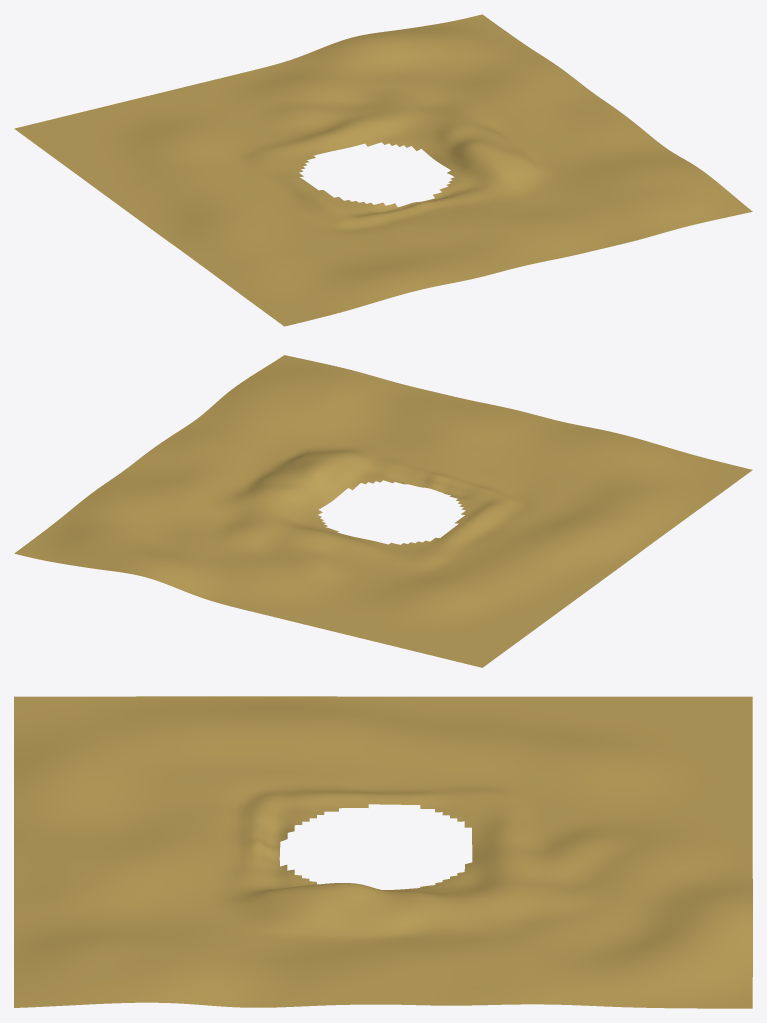
The model's file is Outerbounds.fbx.
The picture shows the model from 3 angles, top to bottom: view 1: azimuth 30°, elevation 25°; view 2: azimuth 150°, elevation 25°; view 3: azimuth 270°, elevation 25°; orthographic projection. The views are drawn at different scales.
Visible parts, largest first — view 1: Outerbounds; view 2: Outerbounds; view 3: Outerbounds.
Part boxes in pixels (x1=…): Outerbounds: x1=14, y1=14, x2=752, y2=326; Outerbounds: x1=14, y1=355, x2=752, y2=667; Outerbounds: x1=14, y1=696, x2=752, y2=1008.
Bounding box in the file's own units: 300115 × 11550 × 300119.
